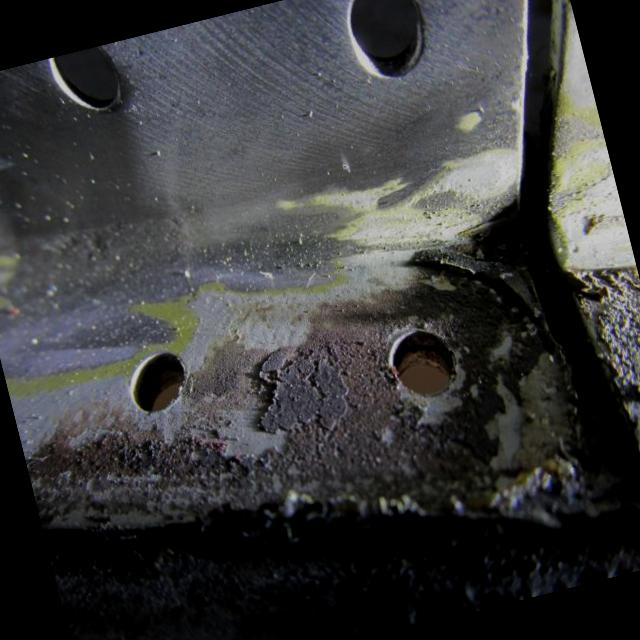Missing Fastener: (362, 297, 484, 424), (312, 0, 451, 110), (33, 39, 146, 149), (107, 327, 217, 425)
